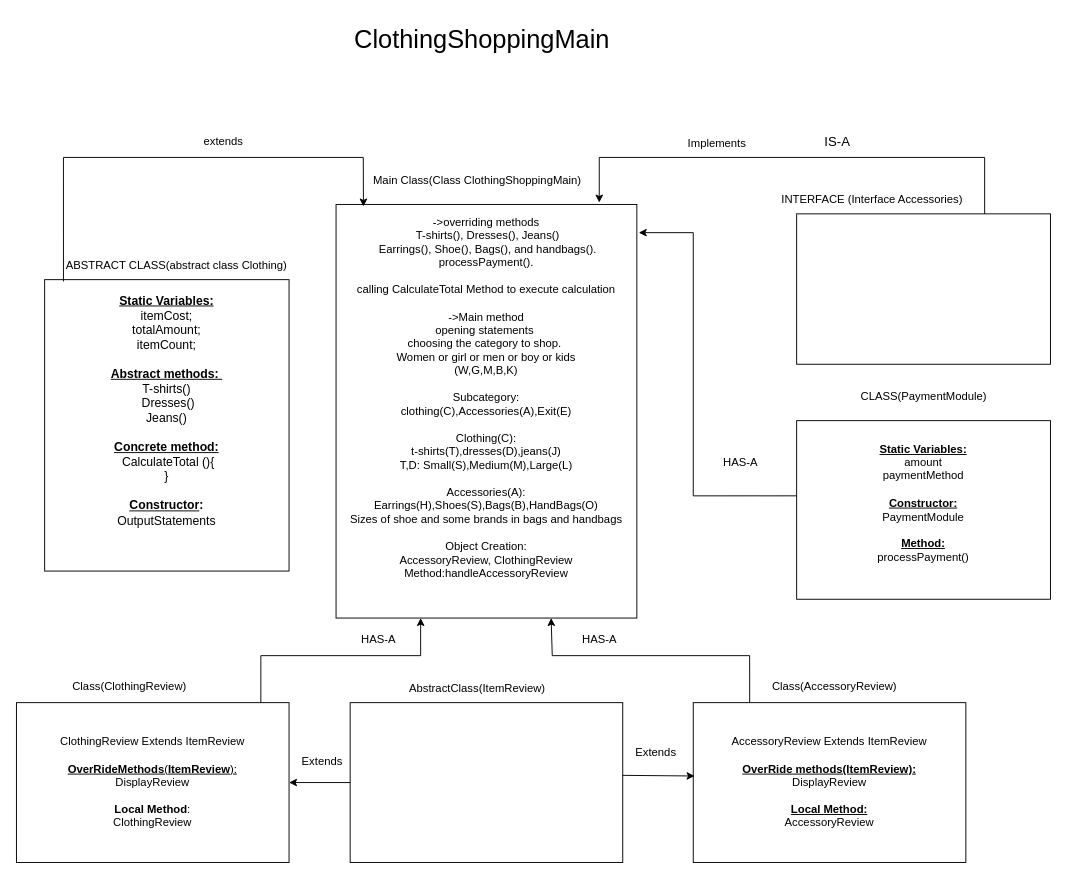
This 1067x879 diagram has some shape labels left out. The shapes that lost their labels are listed below. From the top down, each one's centre as x and y in pixels, then its label:
the point at 923,288: Abstract Methods: void Earrings(); void Shoe(); void Bags(); void Handbags();
the point at 486,782: Abstract Methods: DisplayReview Concrete Methods: ItemReview
